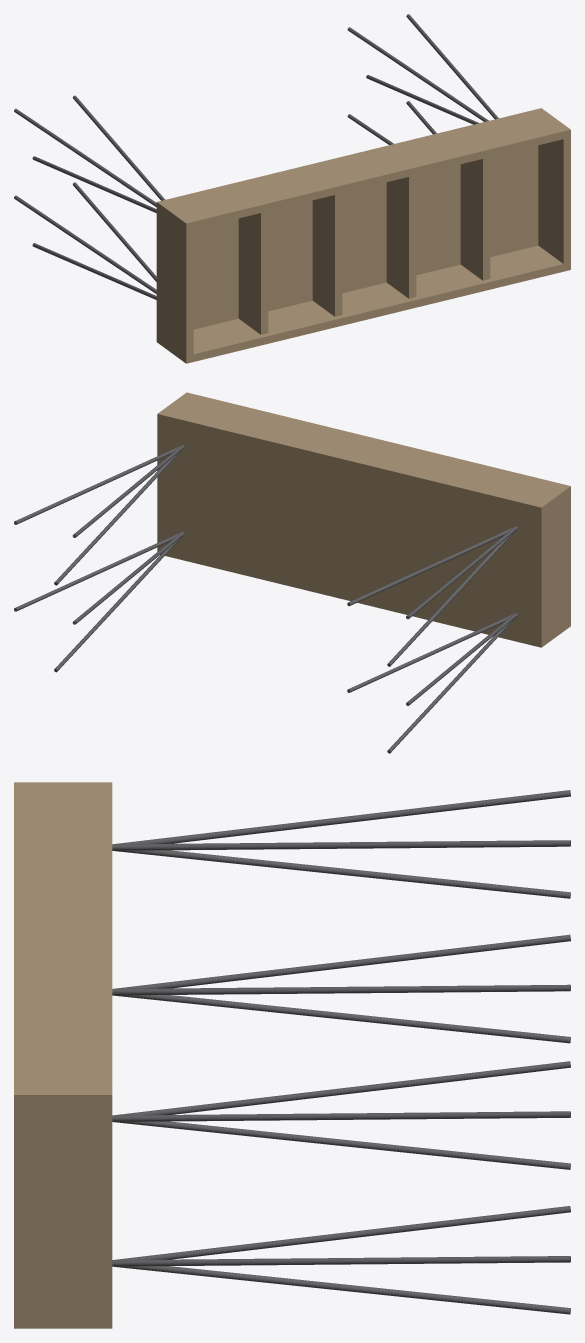
File: vinyl_record_storage.glb
The picture shows the model from 3 angles, top to bottom: view 1: azimuth 30°, elevation 25°; view 2: azimuth 150°, elevation 25°; view 3: azimuth 270°, elevation 25°; orthographic projection. The views are drawn at different scales.
Visible parts, largest first — view 1: bottom, back, front, side_left, side_right, divider_2, divider_1, divider_3, divider_4, leg_back_left, leg_front_left, leg_back_right; view 2: bottom, back, side_left, leg_back_right, leg_front_left, leg_back_left, leg_front_right, side_right; view 3: back, side_right, leg_back_right, leg_back_left, leg_front_left, leg_front_right, bottom, side_left.
Part boxes in pixels (x1=…): bottom: x1=164, y1=110, x2=538, y2=329; back: x1=168, y1=113, x2=563, y2=229; front: x1=193, y1=245, x2=563, y2=361; side_left: x1=156, y1=200, x2=193, y2=363; side_right: x1=534, y1=108, x2=570, y2=271; divider_2: x1=312, y1=193, x2=342, y2=316; divider_1: x1=238, y1=211, x2=268, y2=334; divider_3: x1=386, y1=175, x2=416, y2=298; divider_4: x1=460, y1=157, x2=490, y2=280; leg_back_left: x1=14, y1=95, x2=165, y2=213; leg_front_left: x1=14, y1=182, x2=156, y2=299; leg_back_right: x1=347, y1=14, x2=498, y2=124; bottom: x1=164, y1=412, x2=537, y2=645; back: x1=169, y1=394, x2=562, y2=502; side_left: x1=534, y1=484, x2=570, y2=647; leg_back_right: x1=14, y1=445, x2=184, y2=585; leg_front_left: x1=347, y1=613, x2=517, y2=753; leg_back_left: x1=347, y1=526, x2=517, y2=666; leg_front_right: x1=14, y1=531, x2=184, y2=672; side_right: x1=157, y1=392, x2=193, y2=551; back: x1=14, y1=788, x2=97, y2=1088; side_right: x1=14, y1=1089, x2=112, y2=1328; leg_back_right: x1=112, y1=1061, x2=570, y2=1169; leg_back_left: x1=112, y1=790, x2=570, y2=898; leg_front_left: x1=112, y1=934, x2=570, y2=1043; leg_front_right: x1=112, y1=1206, x2=570, y2=1314; bottom: x1=98, y1=788, x2=112, y2=1088; side_left: x1=14, y1=782, x2=112, y2=788.
Bounding box in the file's own units: 46.53 × 16.75 × 34.03.
